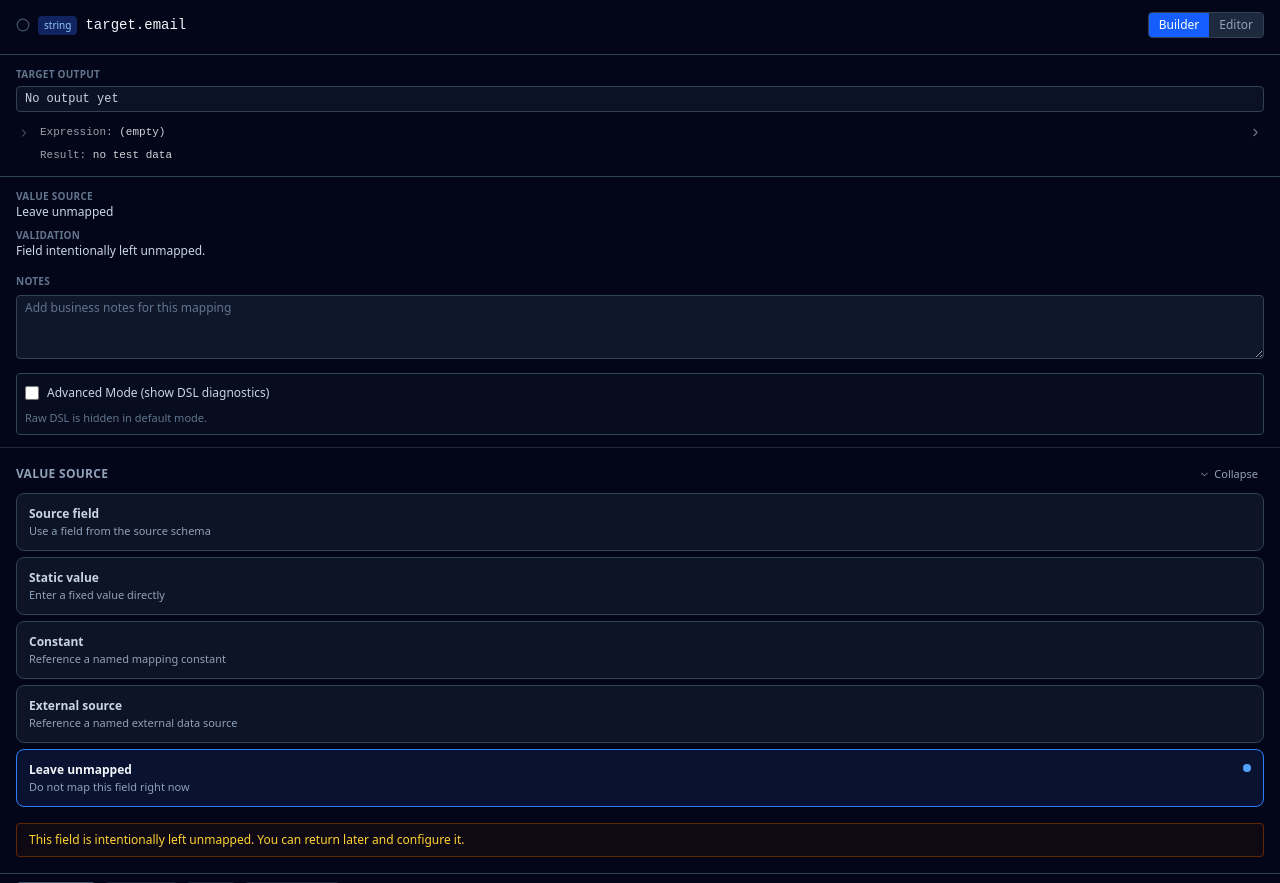
ScalarFieldBuilder — UnifiedExpressionBuilder integration › switches to editor mode when Editor toggle is clicked
Step 1. Click the button with test id "mode-toggle-editor" → [1236, 25], box x1=1209 y1=13 x2=1263 y2=37
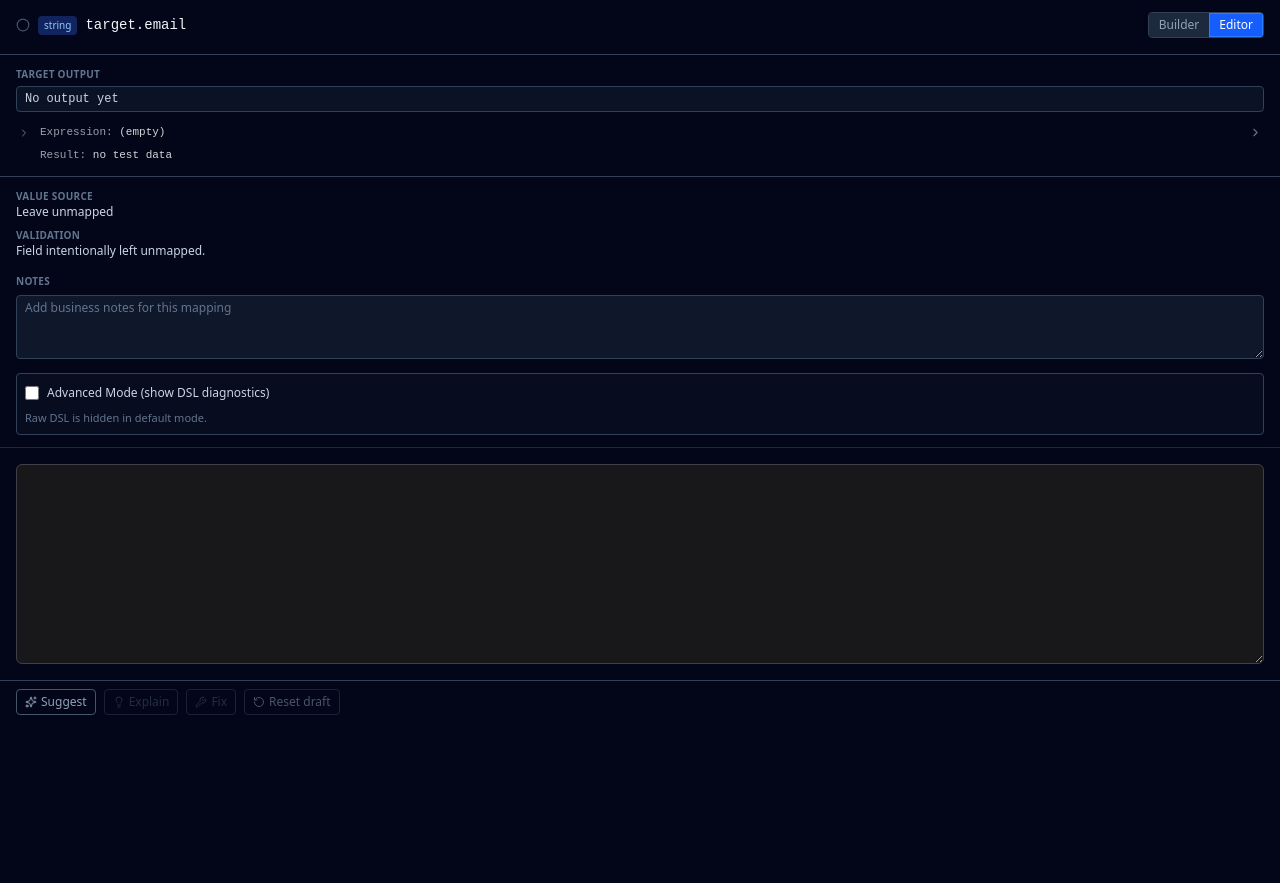
Expected: the element with test id "expression-editor-slot" is shown, x1=16 y1=464 x2=1264 y2=664
